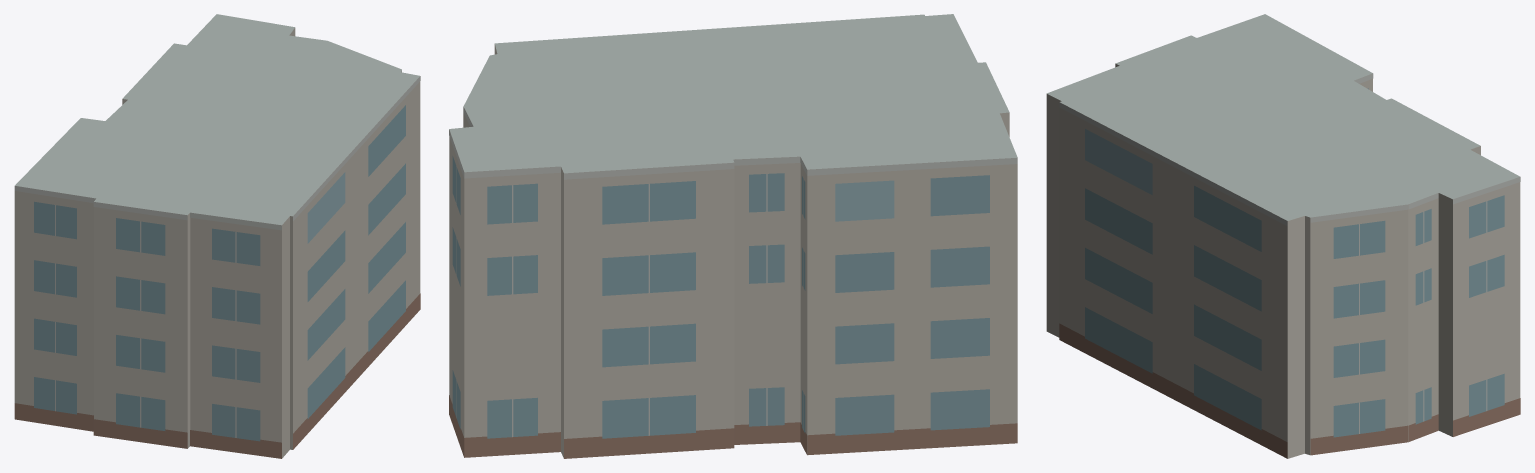
The model's file is survey-upis-32974882.glb.
3 views of the same model, side by side, from view 1: azimuth 30°, elevation 25°; view 2: azimuth 150°, elevation 25°; view 3: azimuth 270°, elevation 25° (orthographic). The views are drawn at different scales.
Visible parts, largest first — view 1: survey-upis-32974882.tmp; view 2: survey-upis-32974882.tmp; view 3: survey-upis-32974882.tmp.
Part boxes in pixels (box(x1,y1,x2,y2)): survey-upis-32974882.tmp: box(14, 14, 420, 458); survey-upis-32974882.tmp: box(449, 14, 1017, 458); survey-upis-32974882.tmp: box(1046, 14, 1520, 458).
Size of the model in its own units: 20.74 by 11.1 by 20.06.
